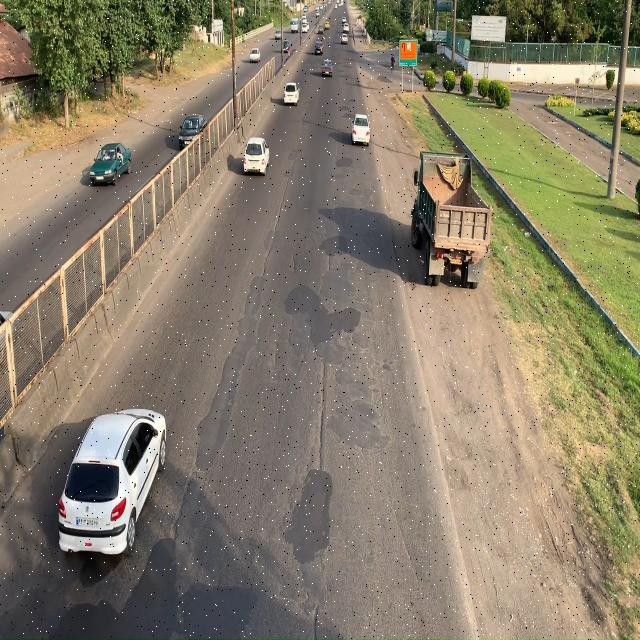Truck: (411, 150, 494, 294)
cars: (60, 404, 166, 556), (86, 141, 130, 187), (178, 113, 206, 150), (244, 140, 270, 177), (352, 115, 371, 148)
